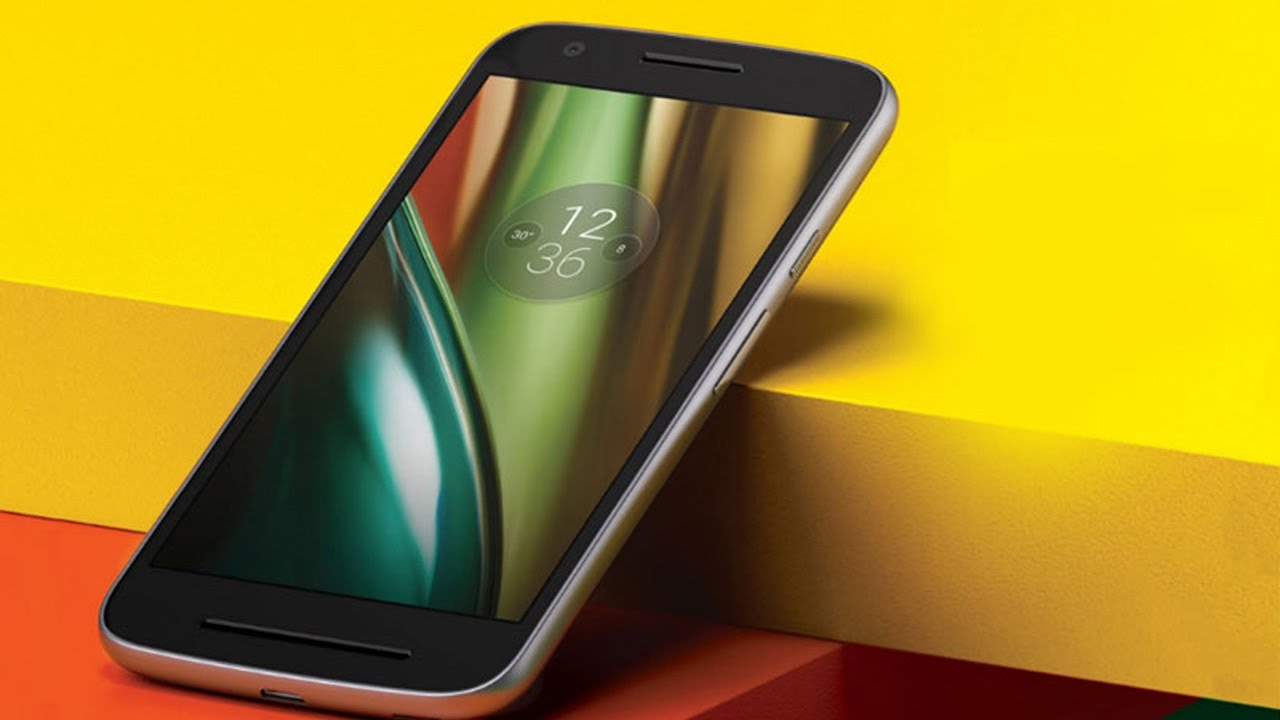mobile: (88, 6, 919, 720)
